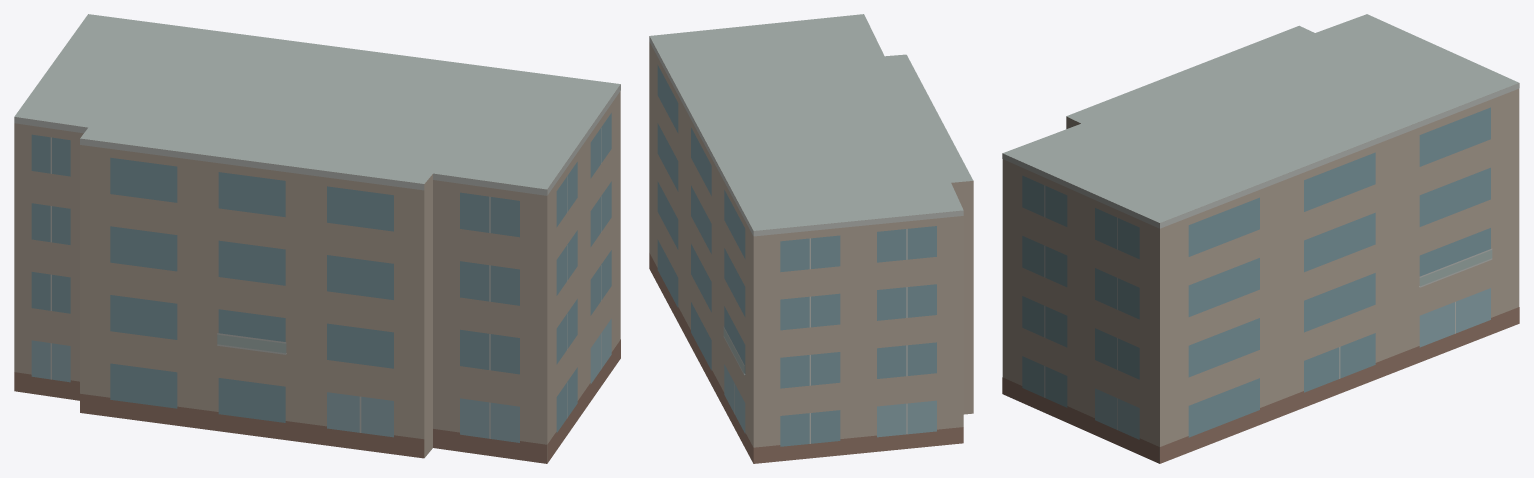
The model's file is survey-upis-33027707.glb.
3 renders of one model, left to right at view 1: azimuth 30°, elevation 25°; view 2: azimuth 150°, elevation 25°; view 3: azimuth 270°, elevation 25°, orthographic. The views are drawn at different scales.
Parts seen in each view (by area): view 1: survey-upis-33027707.tmp; view 2: survey-upis-33027707.tmp; view 3: survey-upis-33027707.tmp.
Part boxes in pixels (x1,y1,x2,y2): survey-upis-33027707.tmp: [14, 14, 620, 463]; survey-upis-33027707.tmp: [649, 14, 973, 463]; survey-upis-33027707.tmp: [1002, 14, 1519, 463].
Bounding box in the file's own units: 19.48 × 10.45 × 20.35.
